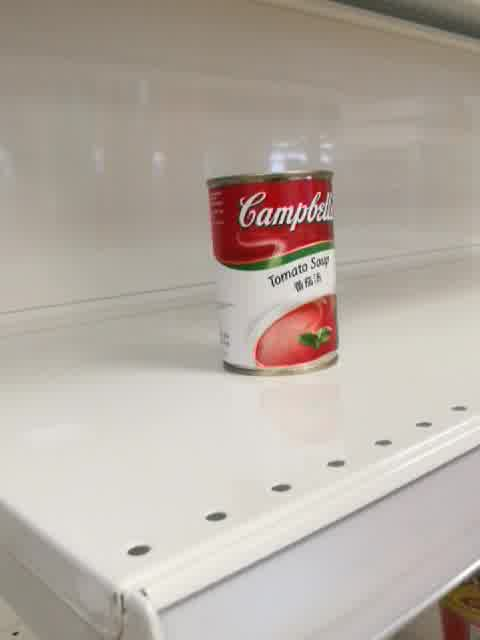tomatosoup: (203, 167, 343, 378)
